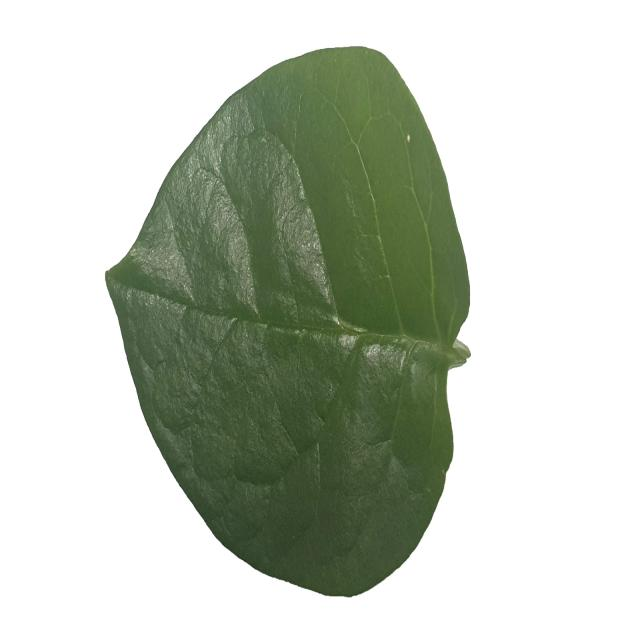Medicinal-Basale: (105, 46, 473, 596)
